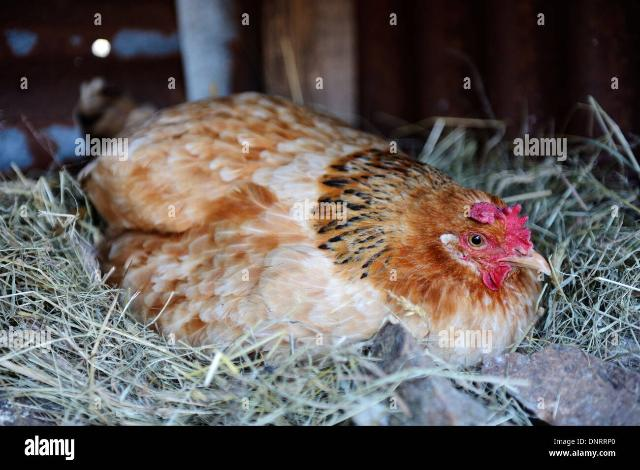Chicken: (80, 92, 550, 366)
